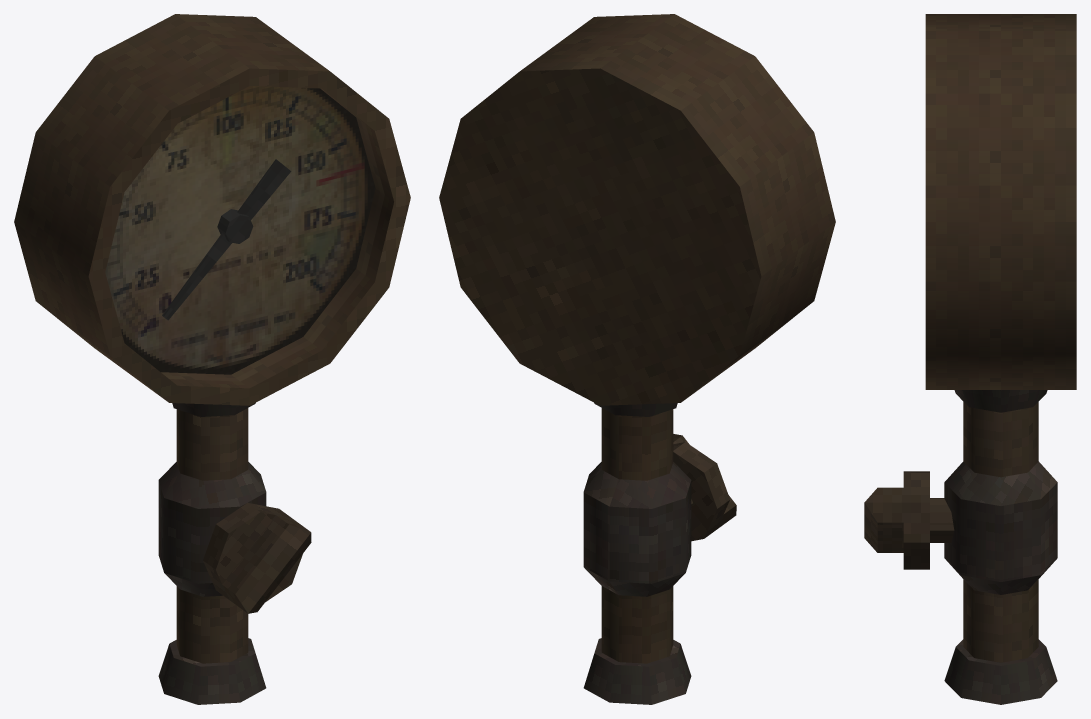
The model's file is gauge_etx_2_1.glb.
The picture shows the model from 3 angles, left to right: view 1: azimuth 30°, elevation 25°; view 2: azimuth 150°, elevation 25°; view 3: azimuth 270°, elevation 25°; orthographic projection.
Parts seen in each view (by area): view 1: gauge_etx_2_1, gauge_etx_2_1_tiny_valve_child, gauge_pointer_etx_2_1_child; view 2: gauge_etx_2_1, gauge_etx_2_1_tiny_valve_child; view 3: gauge_etx_2_1, gauge_etx_2_1_tiny_valve_child.
Boxes of the visible parts, box(x1,y1,x2,y2) form: gauge_etx_2_1: box(14, 14, 410, 704); gauge_etx_2_1_tiny_valve_child: box(203, 502, 311, 613); gauge_pointer_etx_2_1_child: box(162, 159, 291, 320); gauge_etx_2_1: box(439, 14, 835, 704); gauge_etx_2_1_tiny_valve_child: box(673, 434, 736, 541); gauge_etx_2_1: box(925, 14, 1076, 704); gauge_etx_2_1_tiny_valve_child: box(864, 471, 954, 569).
Size of the model in its own units: 0.2 by 0.38 by 0.1124.
3 materials, 3 textured.
